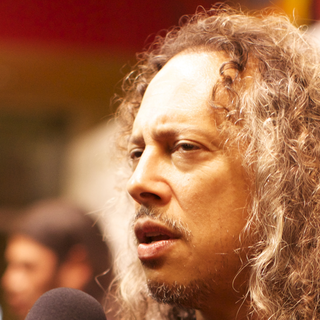eye: (164, 138, 210, 160)
